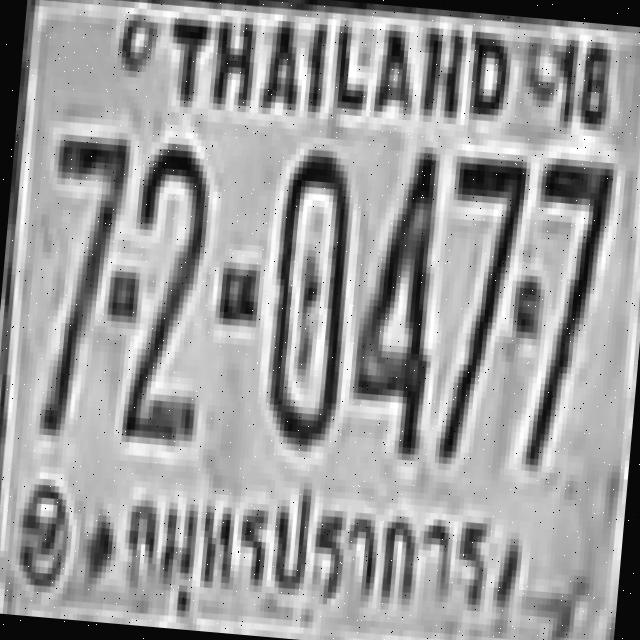0: (260, 144, 355, 444)
2: (110, 137, 213, 431)
4: (346, 139, 444, 451)
7: (515, 150, 612, 462), (31, 127, 127, 433), (431, 153, 527, 459), (439, 150, 527, 362), (525, 150, 612, 357), (40, 127, 127, 333), (442, 150, 528, 336)
SamutPrakan: (113, 465, 502, 640)
